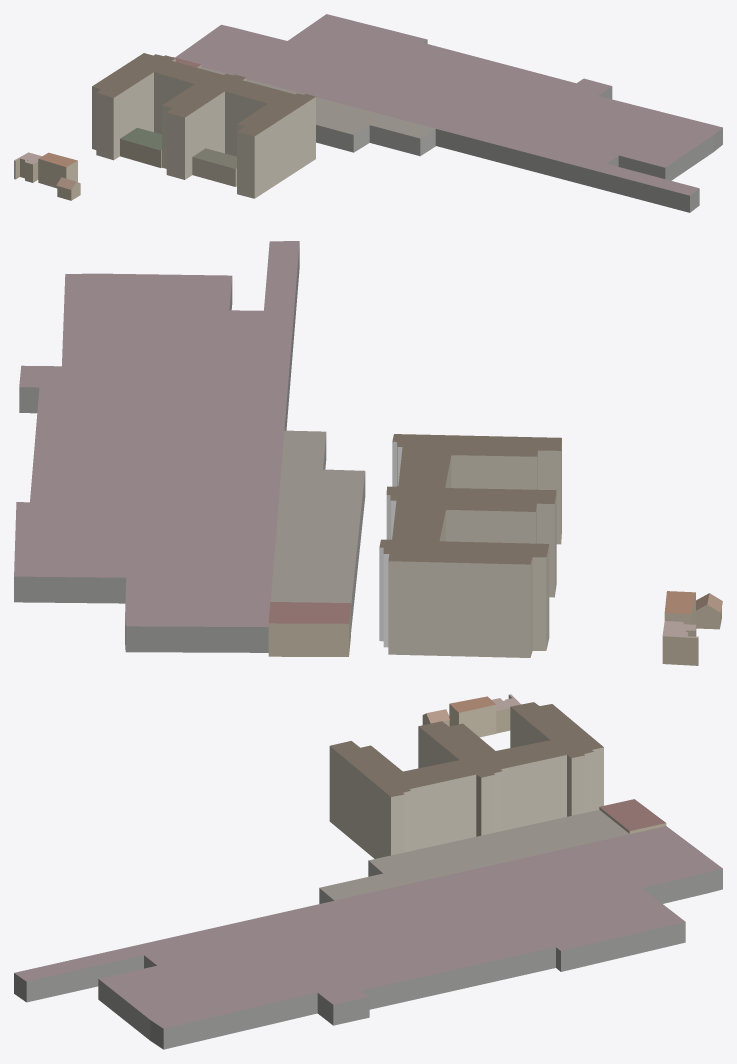
The picture shows the model from 3 angles, top to bottom: view 1: azimuth 30°, elevation 25°; view 2: azimuth 150°, elevation 25°; view 3: azimuth 270°, elevation 25°; orthographic projection. The views are drawn at different scales.
Visible parts, largest first — view 1: tuile; view 2: tuile; view 3: tuile.
Boxes of the visible parts, left/top/right/bottom form: tuile: left=14, top=14, right=722, bottom=212; tuile: left=14, top=241, right=722, bottom=665; tuile: left=14, top=694, right=722, bottom=1049.
Size of the model in its own units: 354 by 37.24 by 317.
